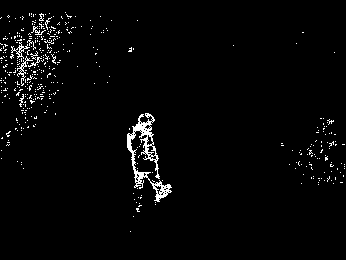person: (125, 111, 172, 214)
